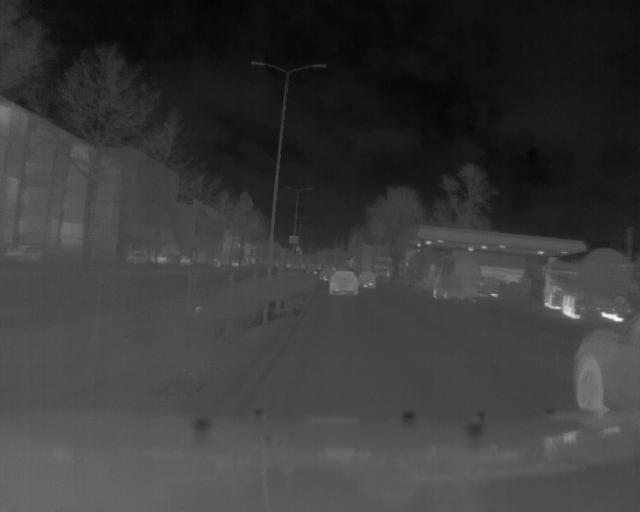car: (572, 315, 640, 414), (548, 248, 635, 324), (327, 269, 362, 298)
